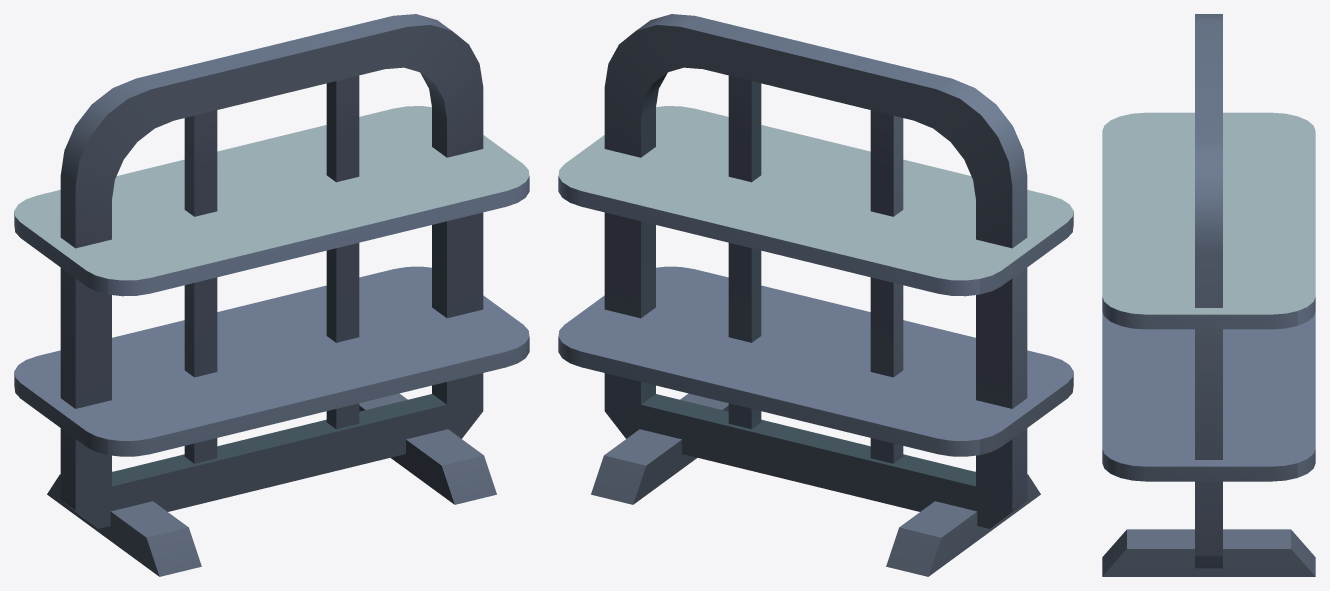
Rendered from rack_b.fbx.
3 renders of one model, left to right at view 1: azimuth 30°, elevation 25°; view 2: azimuth 150°, elevation 25°; view 3: azimuth 270°, elevation 25°, orthographic. The views are drawn at different scales.
Visible parts, largest first — view 1: rack_empty; view 2: rack_empty; view 3: rack_empty.
Boxes of the visible parts, x1,y1,x2,y2 form: rack_empty: (14, 14, 529, 576); rack_empty: (558, 14, 1073, 576); rack_empty: (1102, 14, 1315, 576).
Bounding box in the file's own units: 186 × 180 × 83.08.
